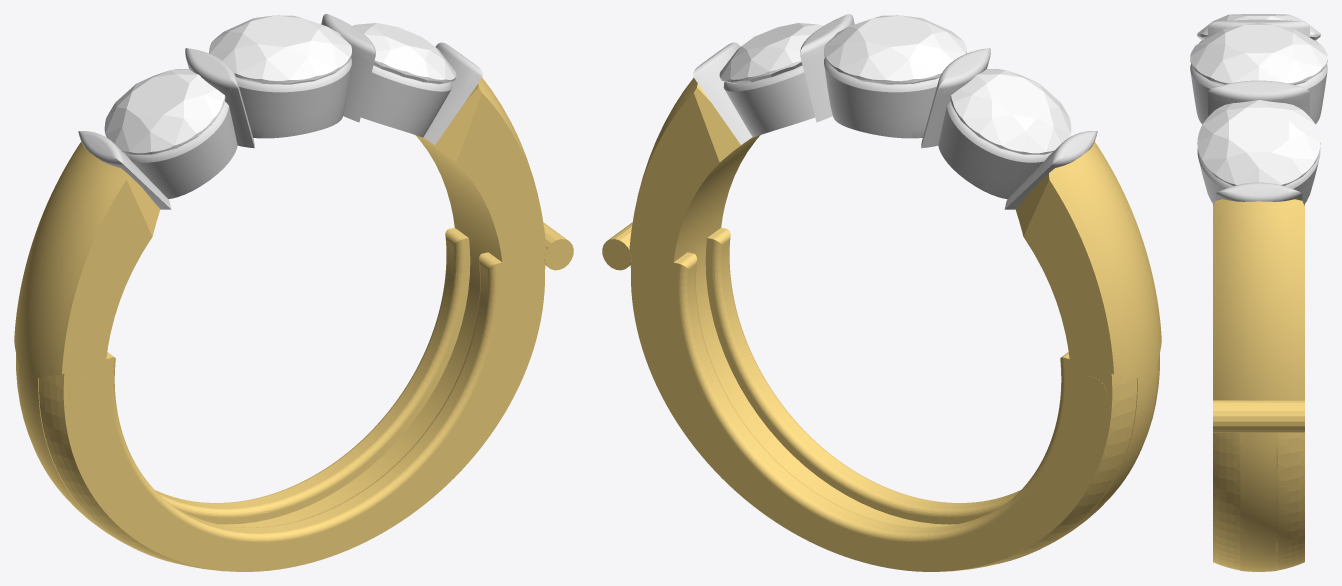
The model's file is alexpractice5_webgi.glb.
The picture shows the model from 3 angles, left to right: view 1: azimuth 30°, elevation 25°; view 2: azimuth 150°, elevation 25°; view 3: azimuth 270°, elevation 25°; orthographic projection. The views are drawn at different scales.
Visible parts, largest first — view 1: Sally_ring_YG_shank_2_for_3d_model, Sally_ring_YG_shank_1_for_3d_model, Sally_ring_PT_for_3d_model, Sally_ring_diamonds_for_3d_model001, Sally_ring_diamonds_for_3d_model002, Sally_ring_diamonds_for_3d_model; view 2: Sally_ring_YG_shank_2_for_3d_model, Sally_ring_YG_shank_1_for_3d_model, Sally_ring_PT_for_3d_model, Sally_ring_diamonds_for_3d_model001, Sally_ring_diamonds_for_3d_model002, Sally_ring_diamonds_for_3d_model; view 3: Sally_ring_YG_shank_1_for_3d_model, Sally_ring_YG_shank_2_for_3d_model, Sally_ring_diamonds_for_3d_model, Sally_ring_PT_for_3d_model, Sally_ring_diamonds_for_3d_model001, Sally_ring_diamonds_for_3d_model002.
Part boxes in pixels (x1,y1,x2,y2): Sally_ring_YG_shank_2_for_3d_model: (16,222,573,571); Sally_ring_YG_shank_1_for_3d_model: (14,77,546,563); Sally_ring_PT_for_3d_model: (78,14,482,209); Sally_ring_diamonds_for_3d_model001: (209,15,351,84); Sally_ring_diamonds_for_3d_model002: (104,69,225,154); Sally_ring_diamonds_for_3d_model: (353,23,456,84); Sally_ring_YG_shank_2_for_3d_model: (602,222,1159,571); Sally_ring_YG_shank_1_for_3d_model: (629,77,1161,563); Sally_ring_PT_for_3d_model: (693,14,1097,209); Sally_ring_diamonds_for_3d_model001: (824,15,966,84); Sally_ring_diamonds_for_3d_model002: (950,69,1071,154); Sally_ring_diamonds_for_3d_model: (719,23,822,84); Sally_ring_YG_shank_1_for_3d_model: (1213,199,1304,571); Sally_ring_YG_shank_2_for_3d_model: (1213,204,1304,570); Sally_ring_diamonds_for_3d_model: (1197,100,1320,185); Sally_ring_PT_for_3d_model: (1190,19,1327,204); Sally_ring_diamonds_for_3d_model001: (1190,23,1327,84); Sally_ring_diamonds_for_3d_model002: (1197,14,1320,40).
Size of the model in its own units: 2.85 by 2.73 by 0.6744.
